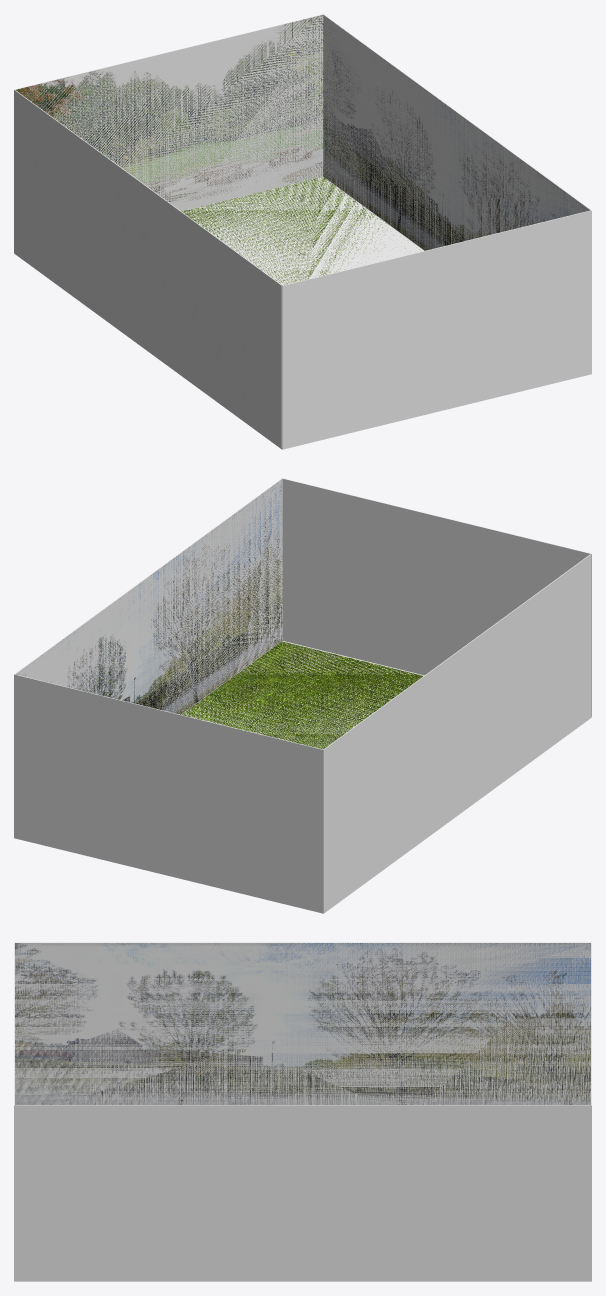
The model's file is flyzone_boxed.dae.
The picture shows the model from 3 angles, top to bottom: view 1: azimuth 30°, elevation 25°; view 2: azimuth 150°, elevation 25°; view 3: azimuth 270°, elevation 25°; orthographic projection. The views are drawn at different scales.
Visible parts, largest first — view 1: SketchUp, image_3, image_1, image_4; view 2: SketchUp, image_0, image_1, image_4; view 3: SketchUp, image_2.
Part boxes in pixels (x1,y1,x2,y2): SketchUp: [14, 14, 591, 449]; image_3: [16, 15, 323, 210]; image_1: [323, 17, 589, 250]; image_4: [181, 177, 405, 285]; SketchUp: [14, 478, 591, 913]; image_0: [282, 479, 591, 715]; image_1: [16, 480, 282, 714]; image_4: [182, 641, 423, 749]; SketchUp: [14, 942, 591, 1281]; image_2: [15, 943, 590, 1104].
Size of the model in its own units: 788 by 1181 by 398.
4 materials, 3 textured.
